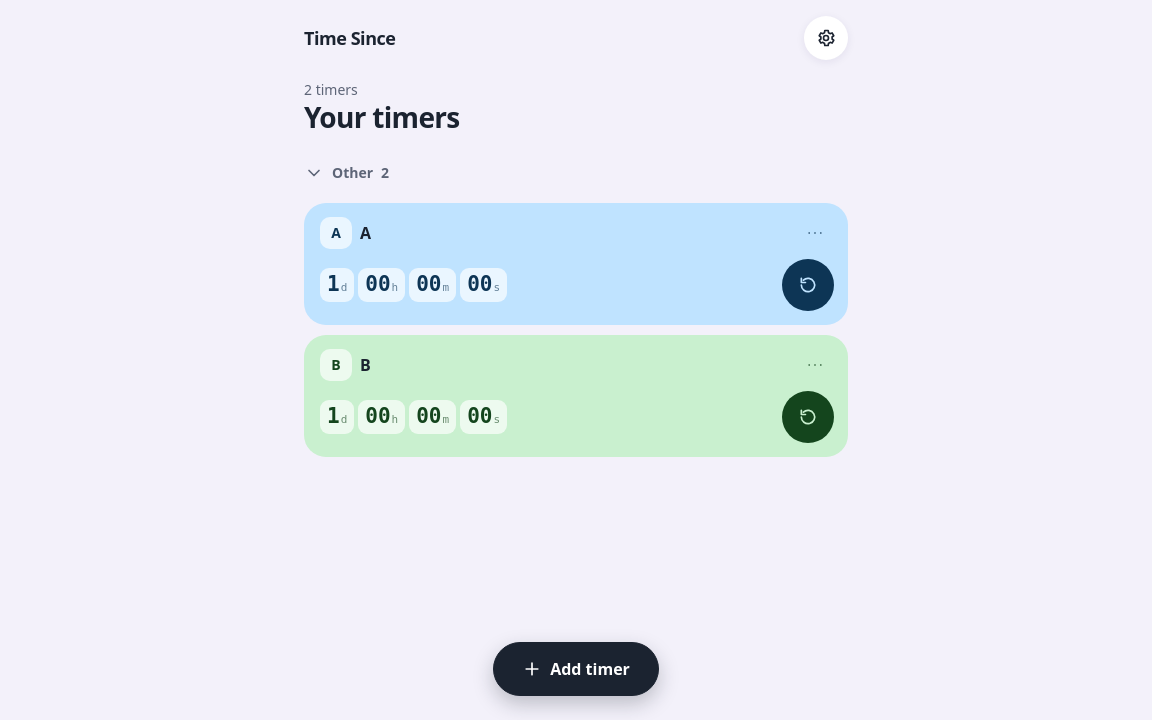
it: TimerList › stacks one undo toast per reset
Click the button named "Reset A" at {"x": 808, "y": 285}, box [782,259,834,311]
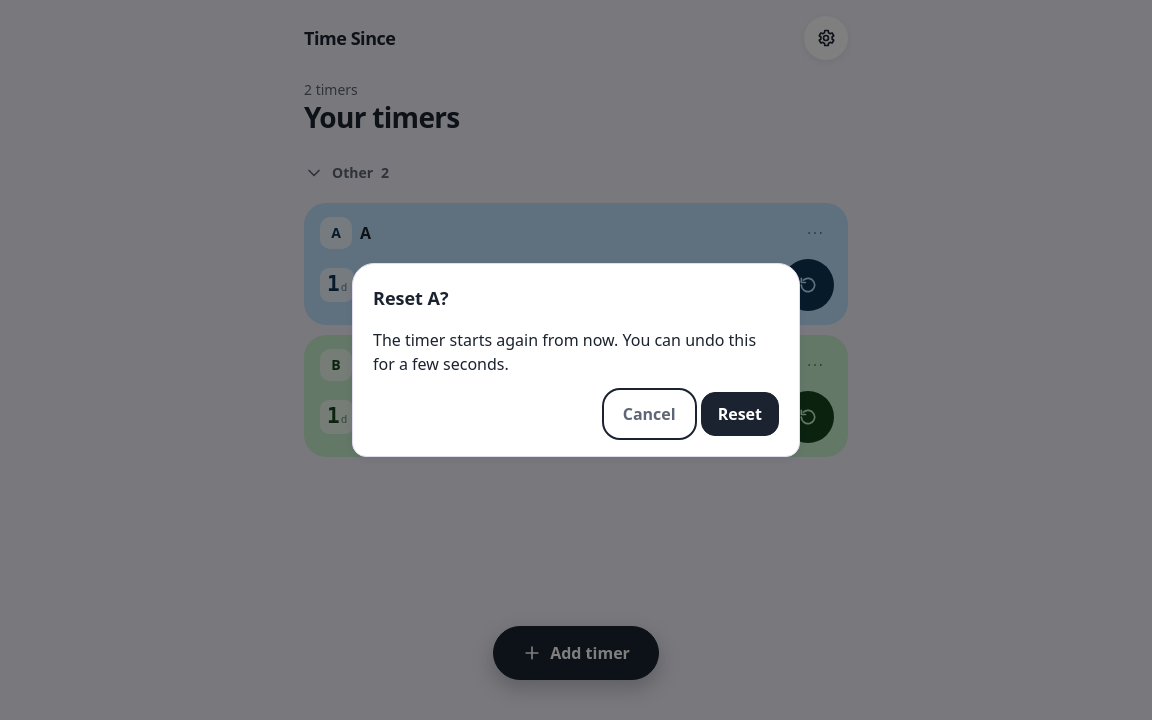
Click the button "Reset" at {"x": 740, "y": 414}, box [701,392,779,436]
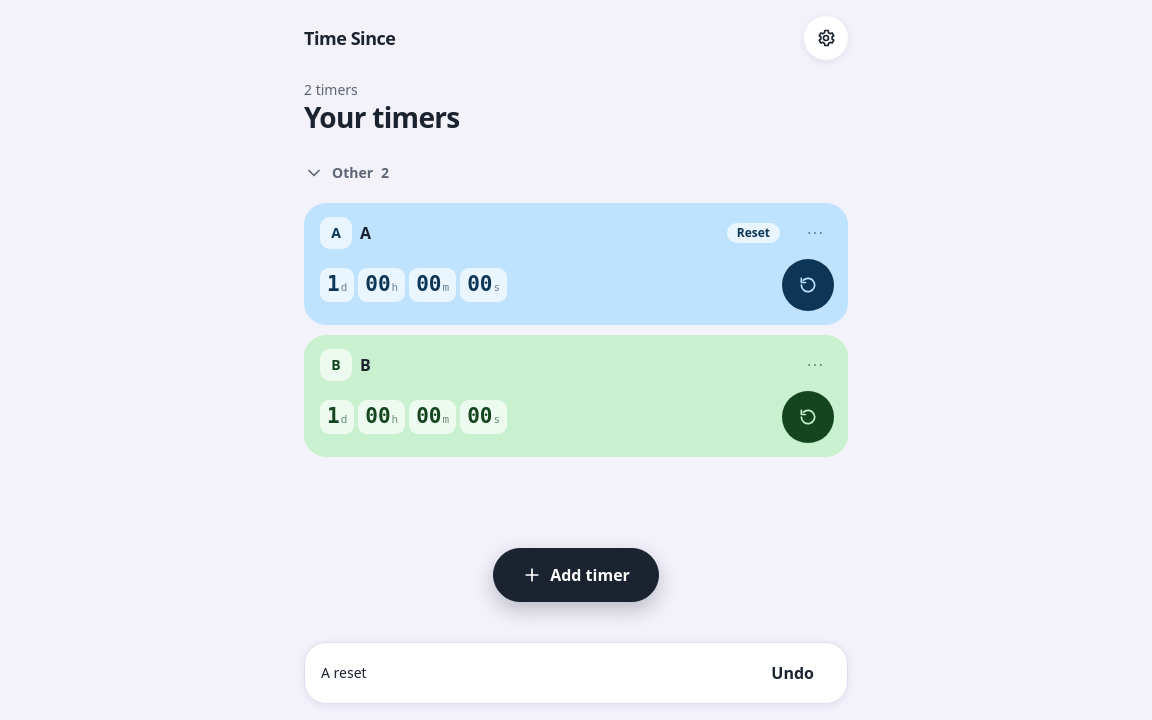
Click the button named "Reset B" at {"x": 808, "y": 417}, box [782,391,834,443]
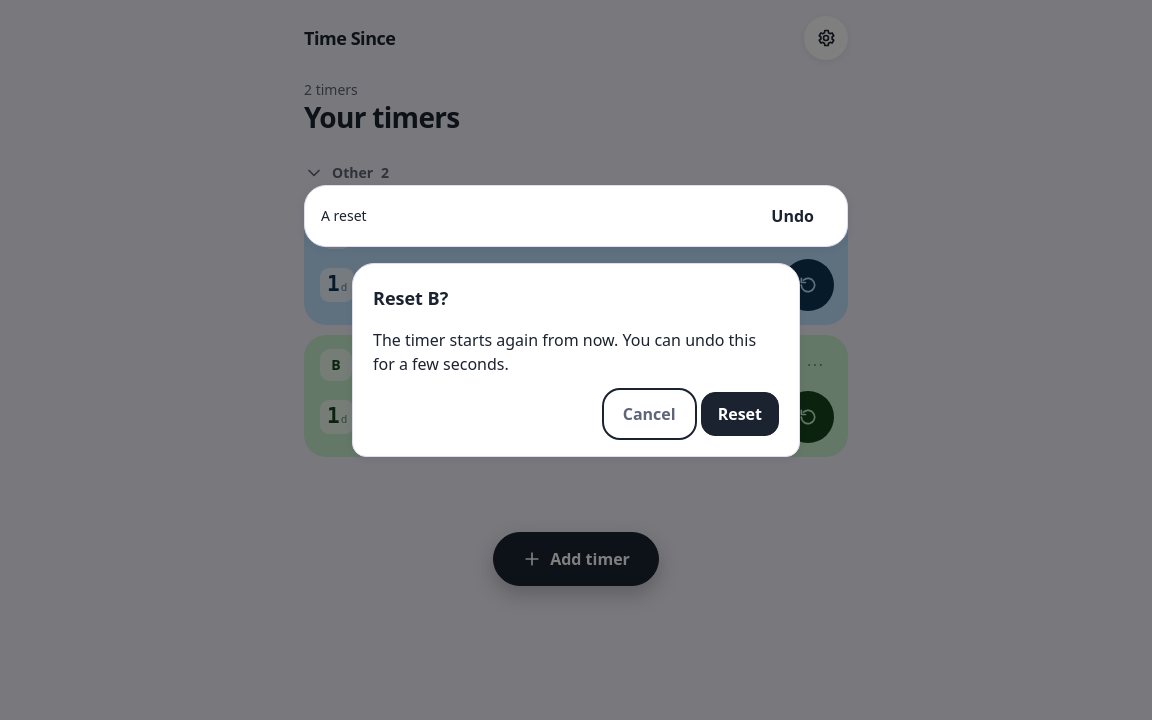
Click the button "Reset" at {"x": 740, "y": 414}, box [701,392,779,436]
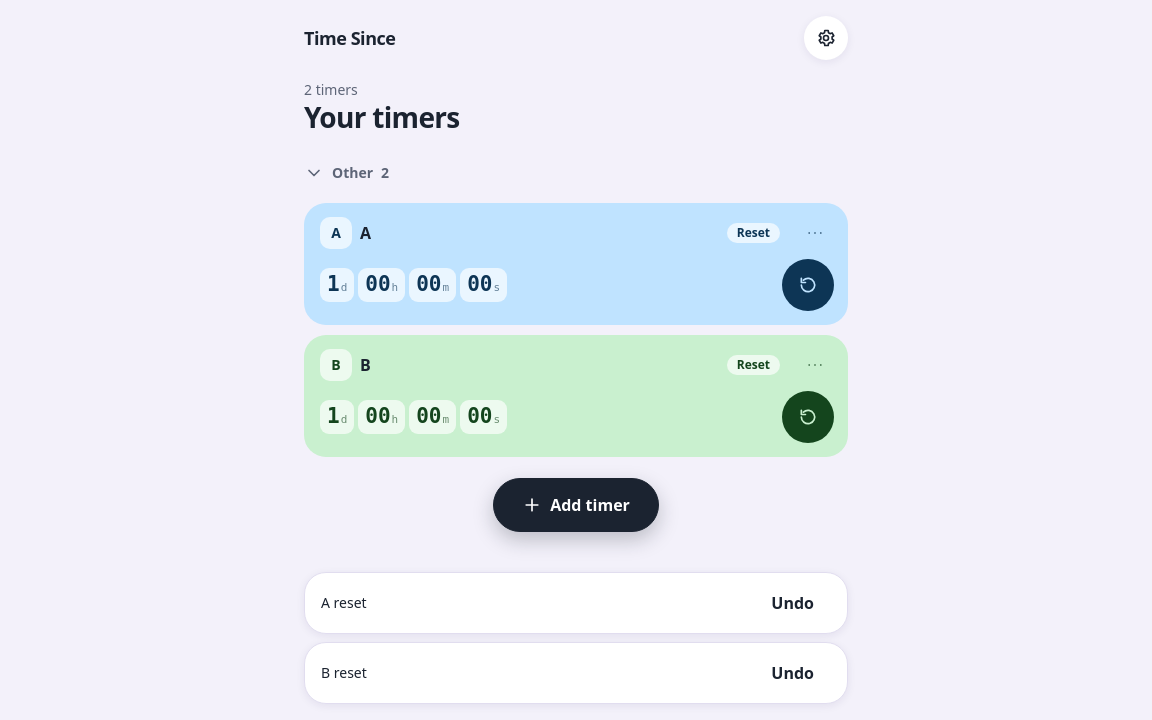
Expected: the number of messages is 2, [304,572,848,634]; [304,642,848,704]
